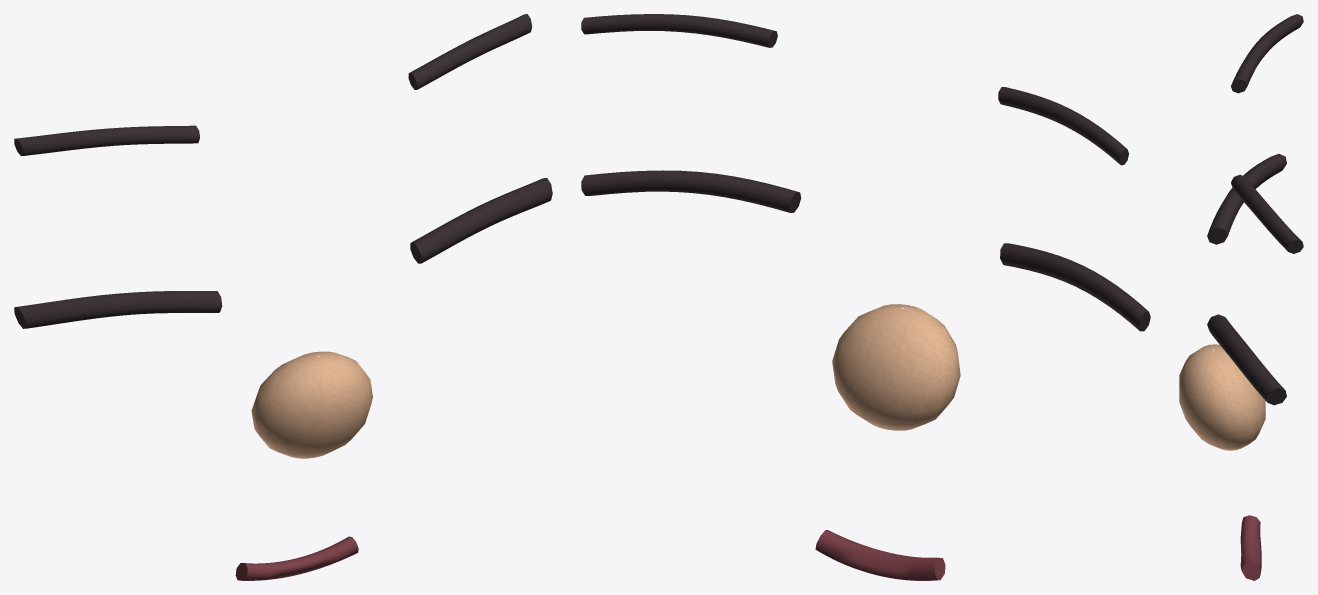
The model's file is face_relaxed.gltf.
3 renders of one model, left to right at view 1: azimuth 30°, elevation 25°; view 2: azimuth 150°, elevation 25°; view 3: azimuth 270°, elevation 25°, orthographic. The views are drawn at different scales.
Visible parts, largest first — view 1: Easygoing; view 2: Easygoing; view 3: Easygoing.
Boxes of the visible parts, x1,y1,x2,y2 form: Easygoing: (14,14,552,580); Easygoing: (581,14,1150,580); Easygoing: (1179,14,1303,580).
Bounding box in the file's own units: 0.2655 × 0.2335 × 0.0597.
3 materials, 3 textured.
